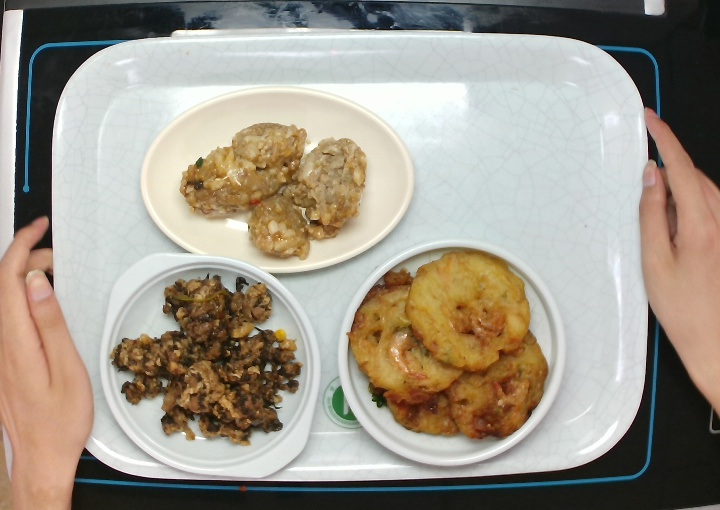JYsf-Shuang_Er_Pan: (96, 247, 327, 489)
JYsf-Tuo_Yuan_Wan: (136, 82, 417, 278)
JYsf-Xiao_Yuan_Pan: (333, 231, 574, 471)
